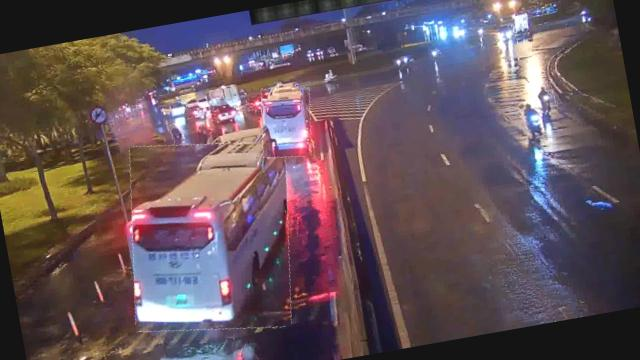Bike: (520, 98, 545, 138), (536, 80, 556, 112), (170, 122, 185, 144)
Bus: (112, 126, 310, 346), (254, 82, 318, 162)
Car: (166, 98, 190, 118), (185, 102, 207, 121)
